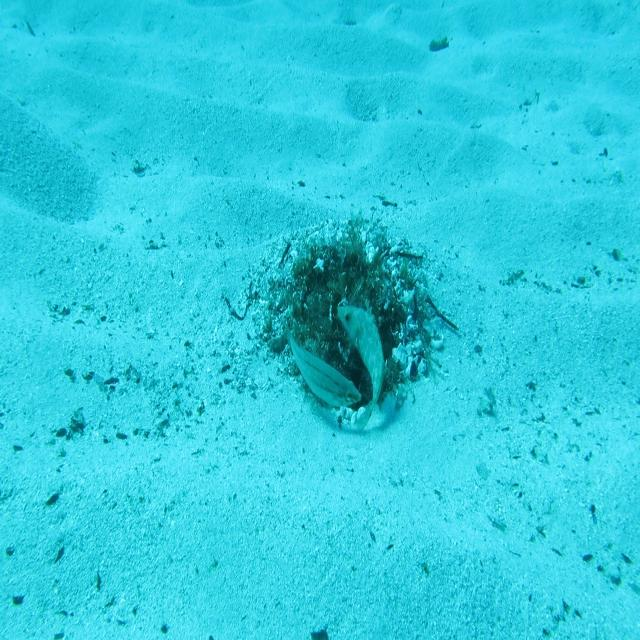DAN_CIRC: (336, 298, 388, 436)
core_nest: (320, 256, 367, 302)
female: (283, 318, 364, 412)
nest: (238, 203, 458, 445)
vegetation: (428, 36, 453, 56), (308, 626, 333, 640)
